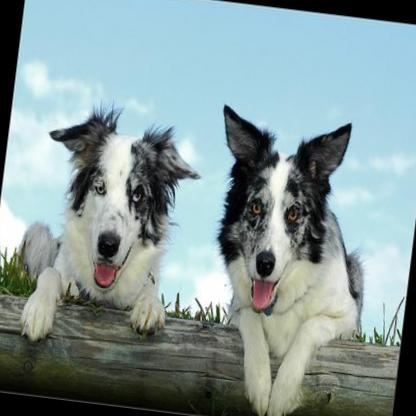Border_collie: (181, 95, 389, 416), (2, 84, 208, 359)
